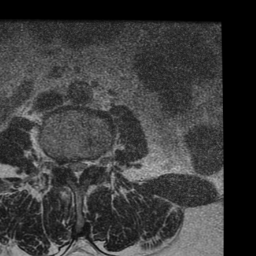CCS_normal: (73, 152, 80, 191)
LFS_stenosis: (89, 148, 98, 176)
LLS_stenosis: (80, 152, 89, 180)
RFS_severe_stenosis: (57, 152, 65, 178)
RLS_stenosis: (65, 152, 73, 179)
